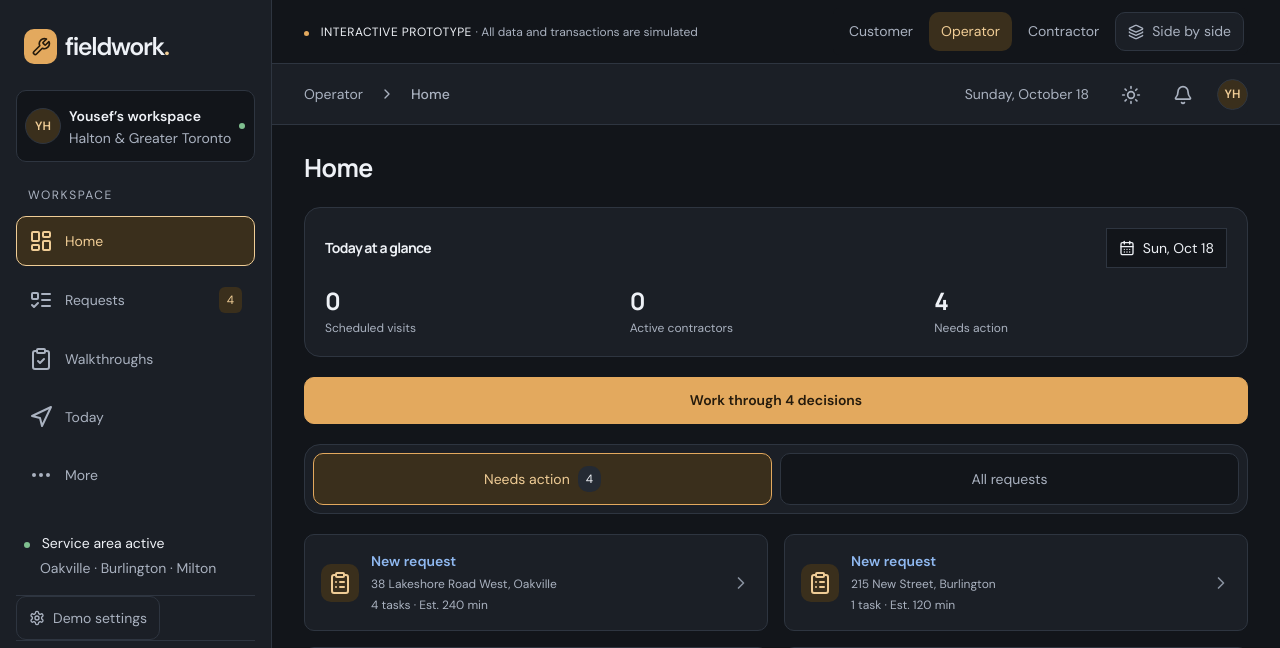
Test: Operator workspace › has Today and More pages
Click the button "Today" at [136, 417], box [16, 392, 255, 442]
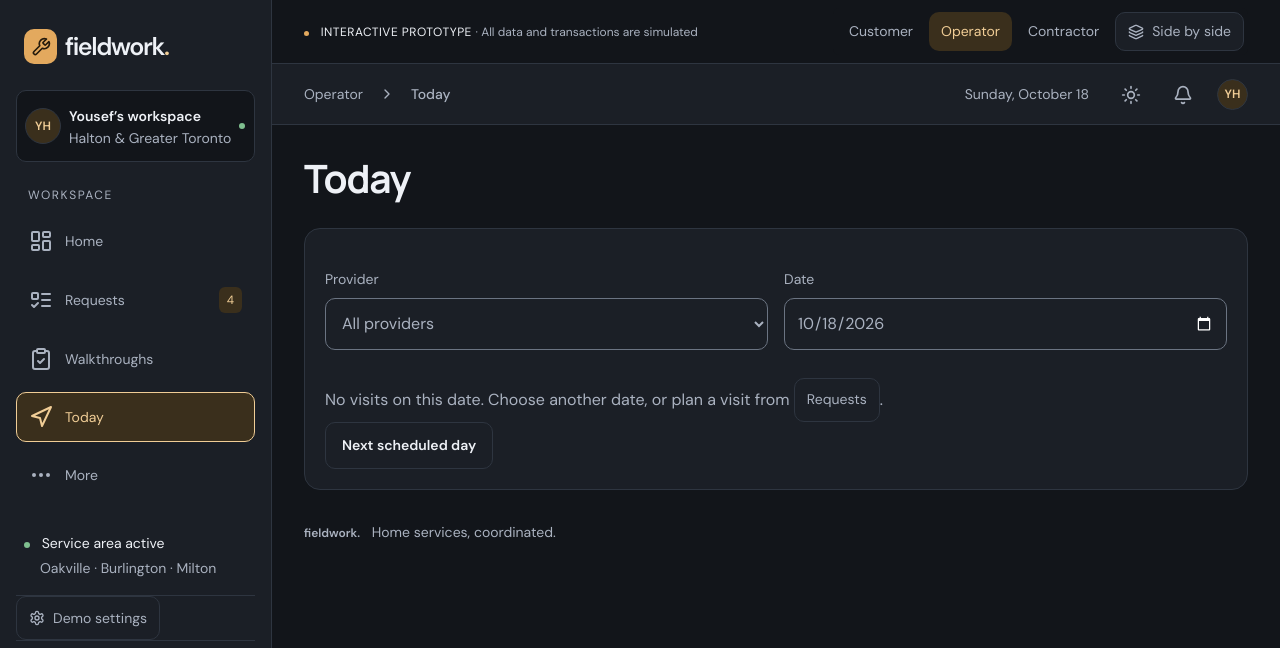
Now the heading reads "Today", box [304, 151, 410, 205]
Click the button "More" at [136, 475], box [16, 450, 255, 500]
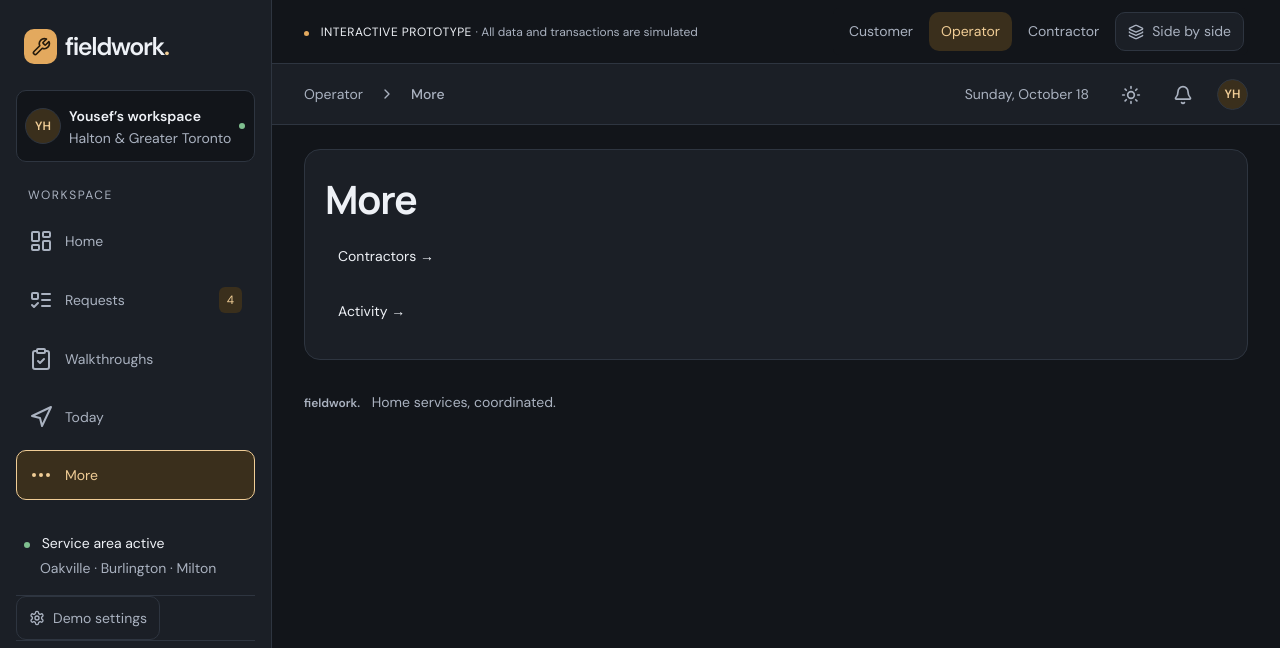
Now the heading reads "More", box [325, 172, 417, 226]
Now the button "Activity →" is shown, box [325, 284, 1227, 339]
